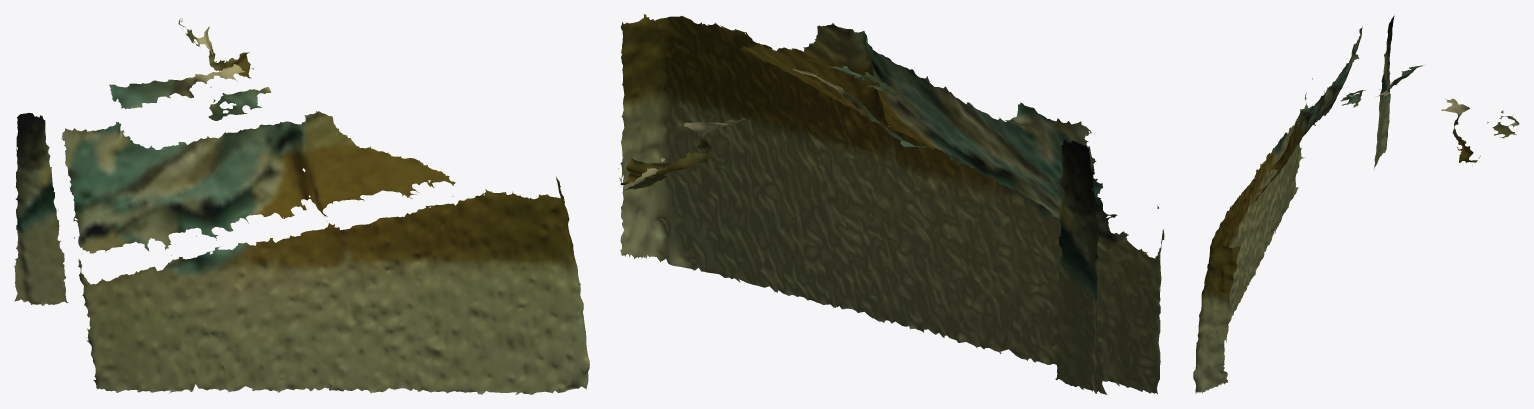
File: color_model_f003_20260204_220907.obj
3 views of the same model, side by side, from view 1: azimuth 30°, elevation 25°; view 2: azimuth 150°, elevation 25°; view 3: azimuth 270°, elevation 25° (orthographic). The views are drawn at different scales.
Bounding box in the file's own units: 1.84 × 1.11 × 1.5.
